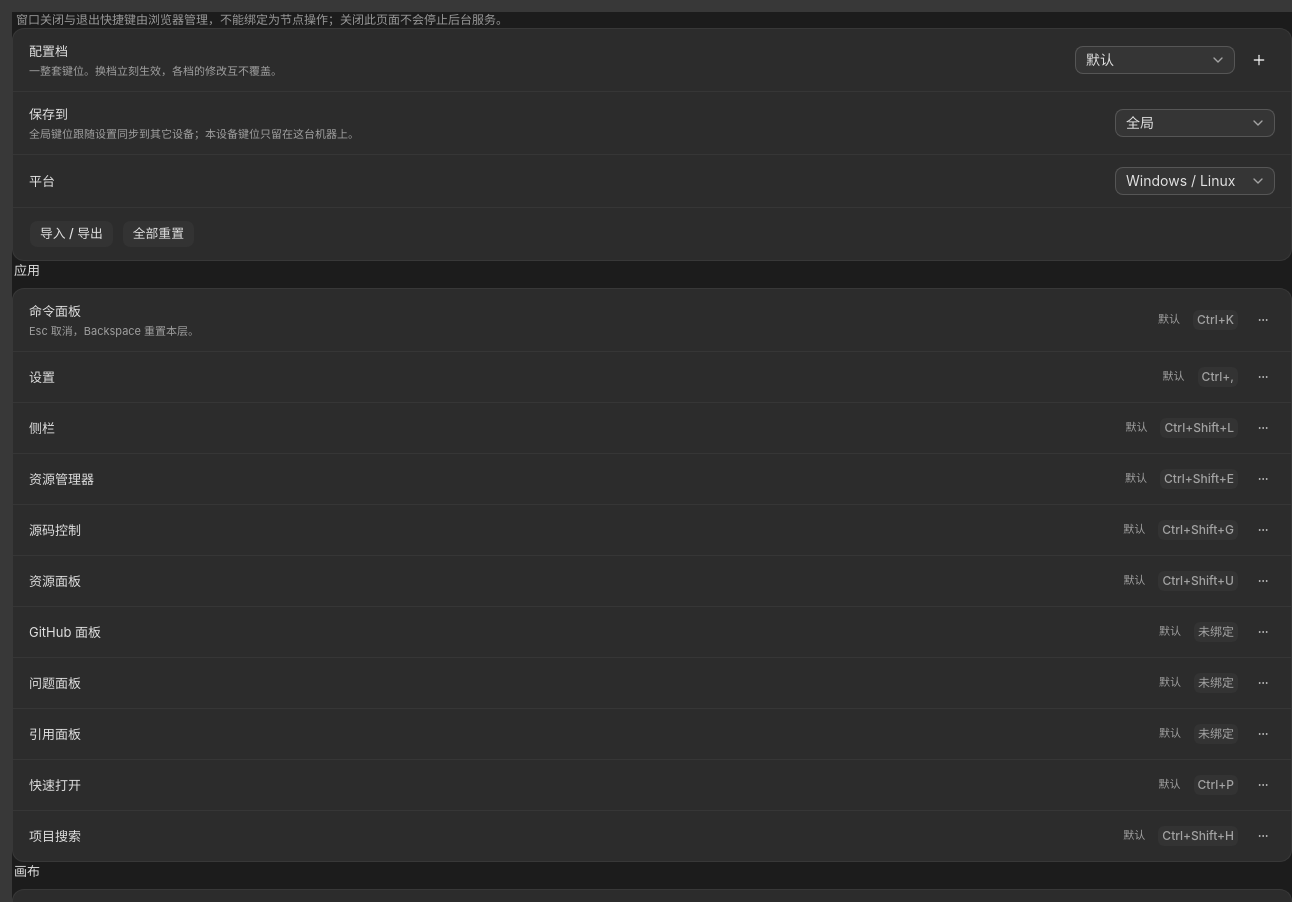
Test: KeybindingsPage › 录制只写当前平台那一格，另一个平台保持原样
Click the button with aria-label "命令面板" at (1216, 320), box [1188,307,1243,333]
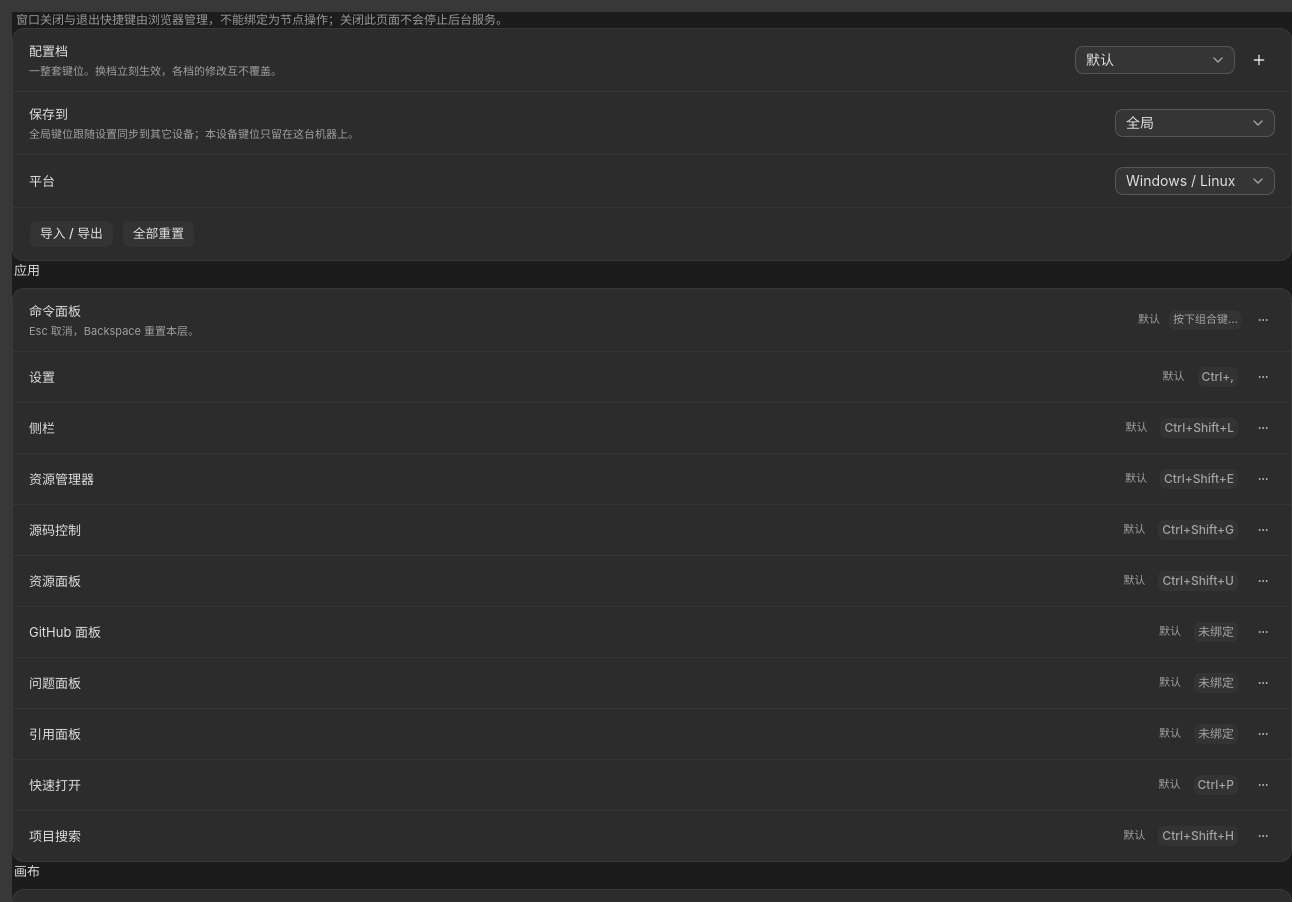
Now the text "按下组合键…" is shown, box [1173,312,1238,328]
Note: 主修饰键在 mac 上是 ⌘、其它平台是 Ctrl；两边都该录成 `Mod`。
Press j
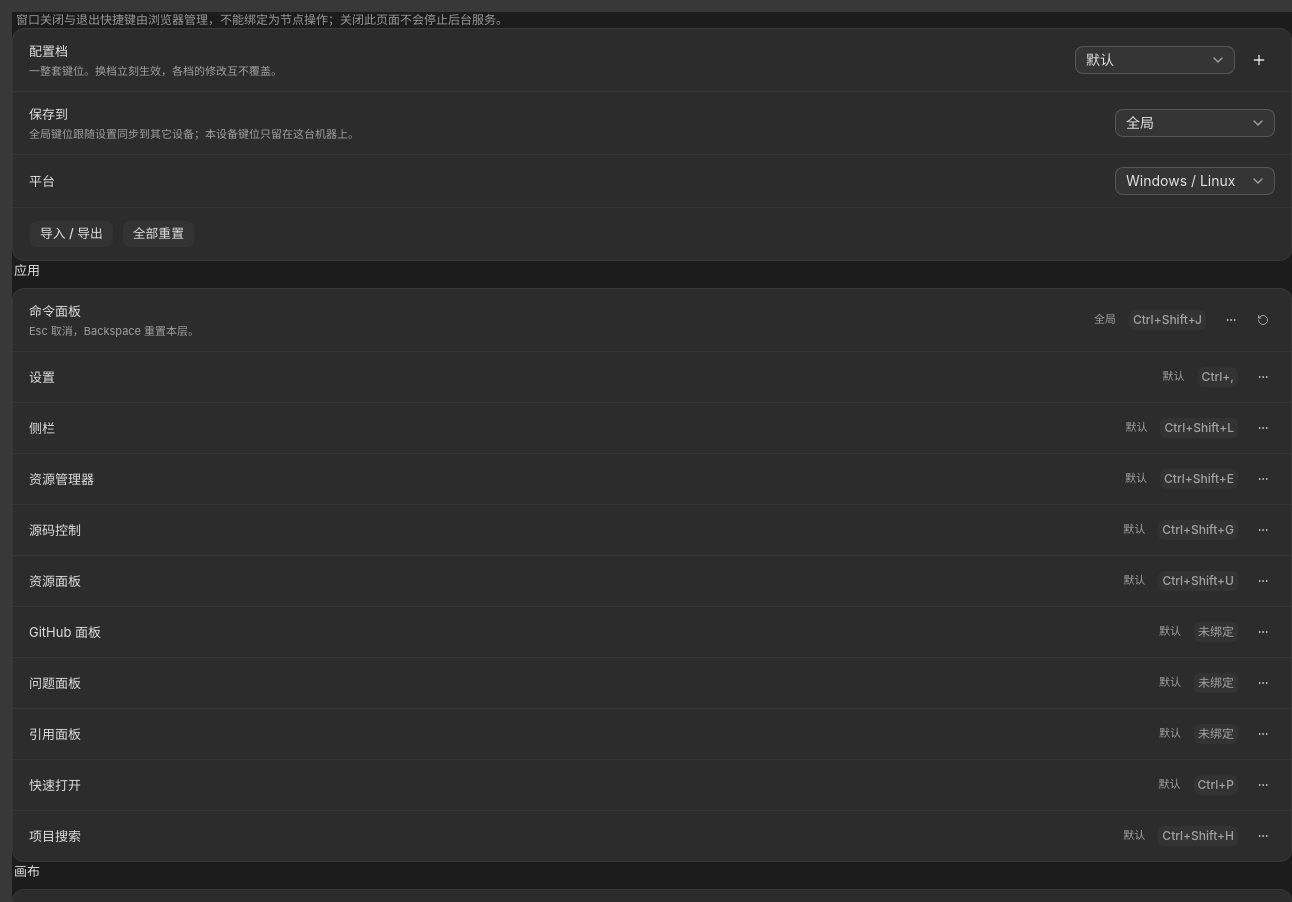
Now the text "按下组合键…" is gone
